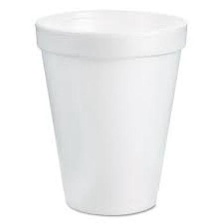paper_cup: (29, 3, 192, 220)
